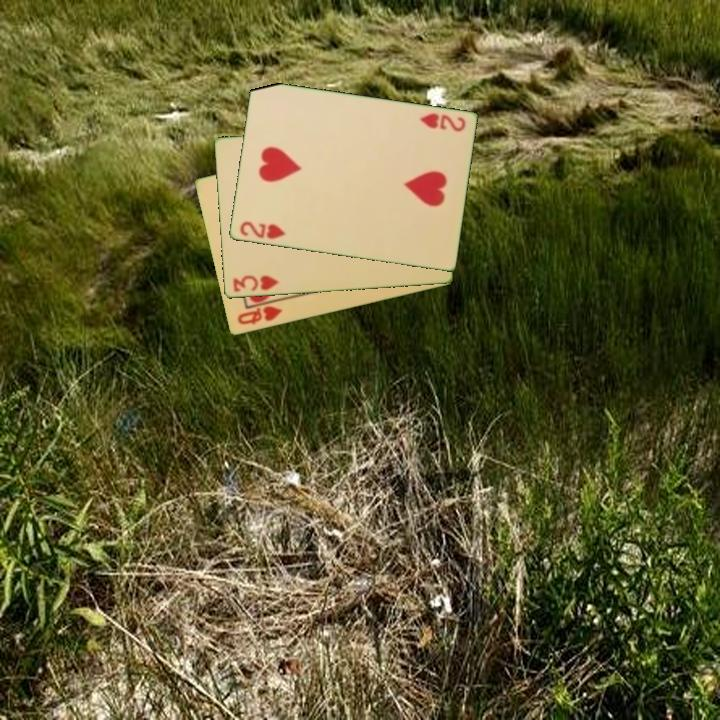2h: (416, 110, 468, 135), (236, 218, 289, 242)
3h: (229, 272, 281, 295)
Qh: (234, 297, 286, 328)
